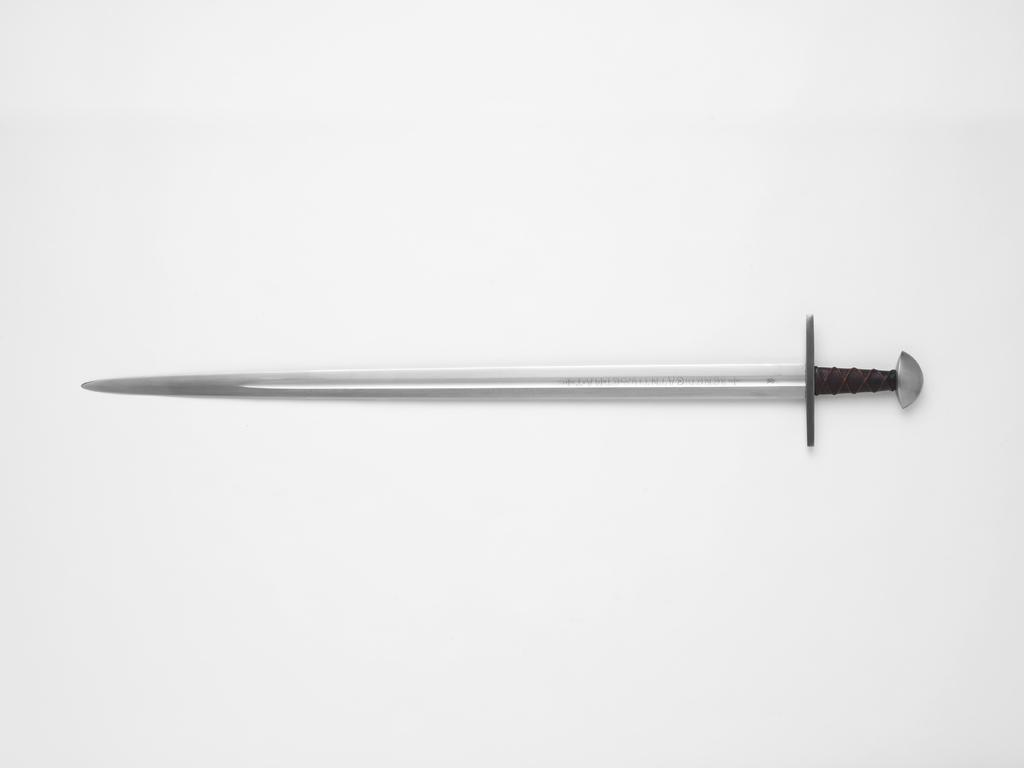Sword: (79, 312, 922, 447)
